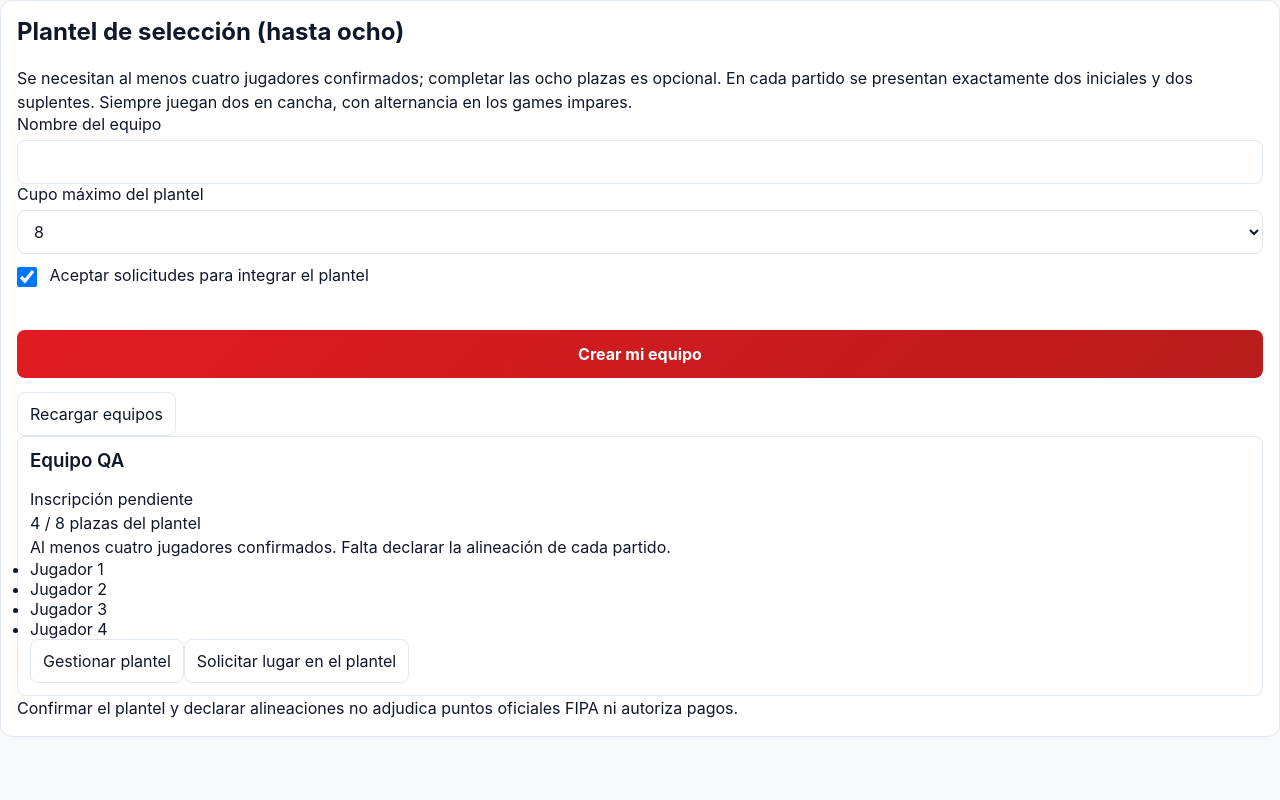
Test case: failed reload keeps visible prior data but disables registration based on stale list
expect the heading "Equipo QA" is shown: met, box x1=30 y1=449 x2=124 y2=472
expect the form named "Crear equipo de selección" is shown: met, box x1=17 y1=114 x2=1263 y2=378
Click the button "Recargar equipos" at (96, 414), box x1=17 y1=392 x2=176 y2=436
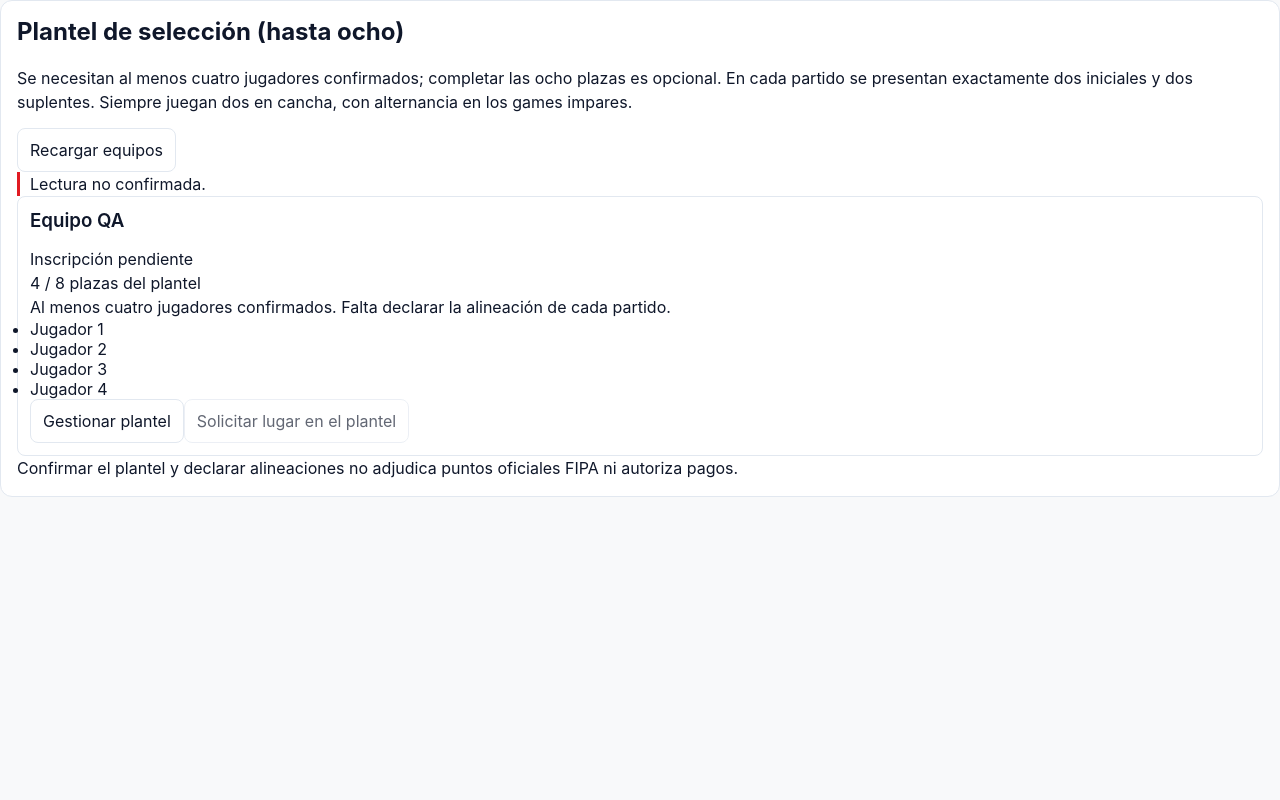
expect the heading "Equipo QA" is shown: met, box x1=30 y1=209 x2=124 y2=232
expect the message "Lectura no confirmada." is shown: met, box x1=17 y1=172 x2=1263 y2=196
expect the button "Solicitar lugar en el plantel" is disabled: met, box x1=184 y1=399 x2=409 y2=443
